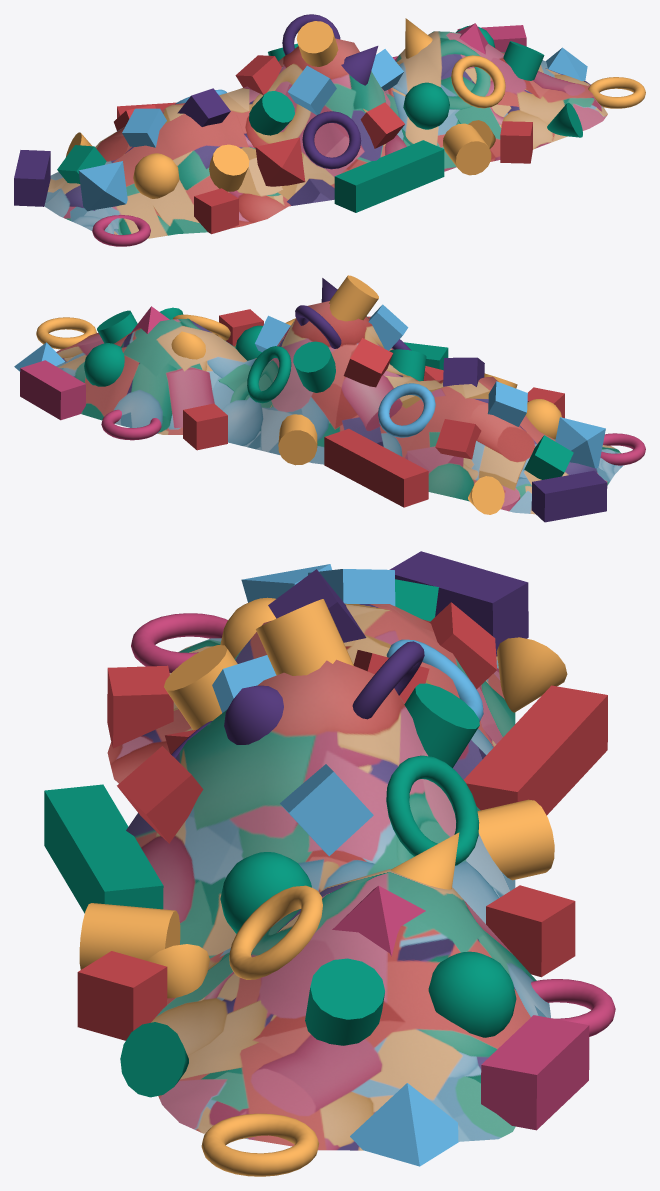
File: pile_large_3.glb
3 views of the same model, one above another, from view 1: azimuth 30°, elevation 25°; view 2: azimuth 150°, elevation 25°; view 3: azimuth 270°, elevation 25° (orthographic). The views are drawn at different scales.
Parts seen in each view (by area): view 1: pile_large_3; view 2: pile_large_3; view 3: pile_large_3.
Part boxes in pixels (x1,y1,x2,y2): pile_large_3: (14,14,645,246); pile_large_3: (14,275,645,522); pile_large_3: (44,551,615,1176).
Size of the model in its own units: 28.82 by 6.46 by 12.13.
7 materials, 1 textured.
